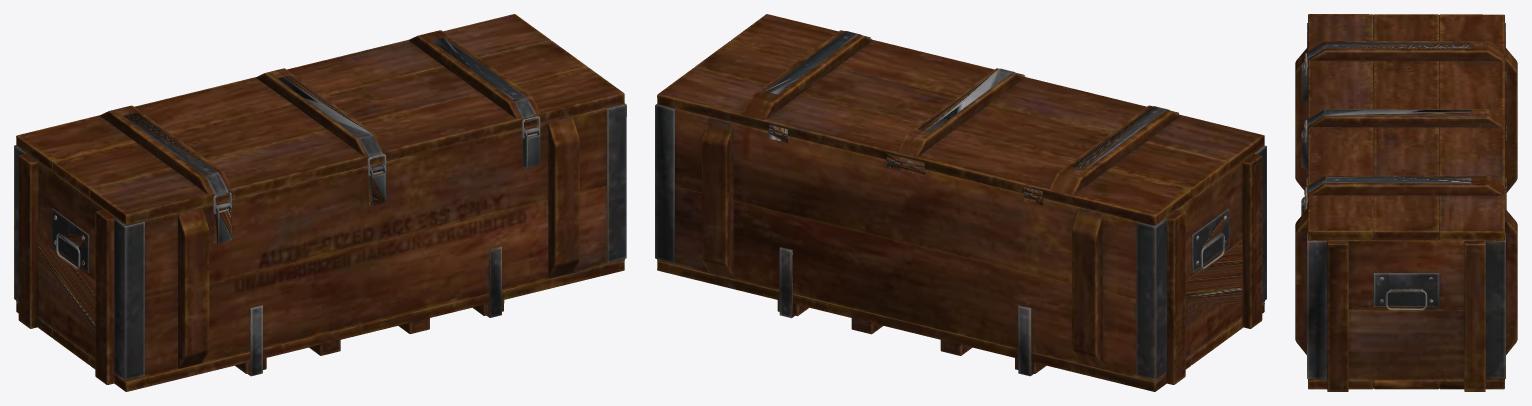
File: wooden_military_crate.glb
3 renders of one model, left to right at view 1: azimuth 30°, elevation 25°; view 2: azimuth 150°, elevation 25°; view 3: azimuth 270°, elevation 25°, orthographic. The views are drawn at different scales.
Parts seen in each view (by area): view 1: wooden_military_crate; view 2: wooden_military_crate; view 3: wooden_military_crate.
Part boxes in pixels (x1,y1,x2,y2): wooden_military_crate: [14, 14, 626, 391]; wooden_military_crate: [655, 14, 1266, 391]; wooden_military_crate: [1295, 14, 1517, 391].
Bounding box in the file's own units: 1.24 × 0.4646 × 0.5198.
Materials: 1 (1 with a texture image).
